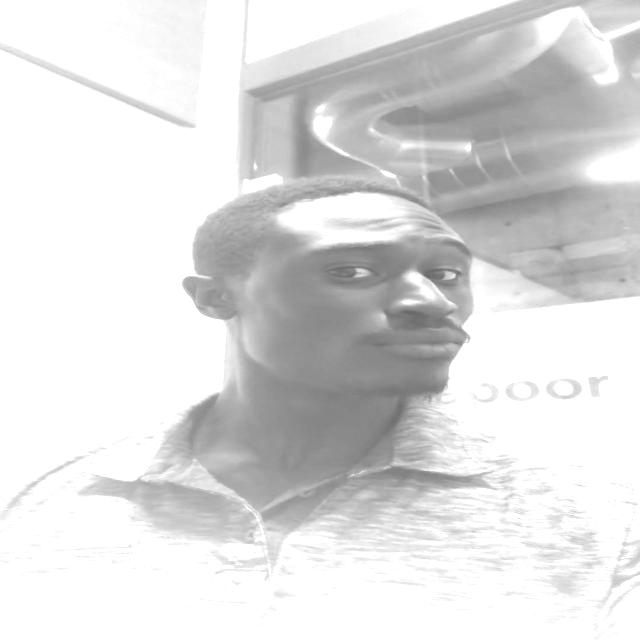real: (179, 185, 473, 396)
